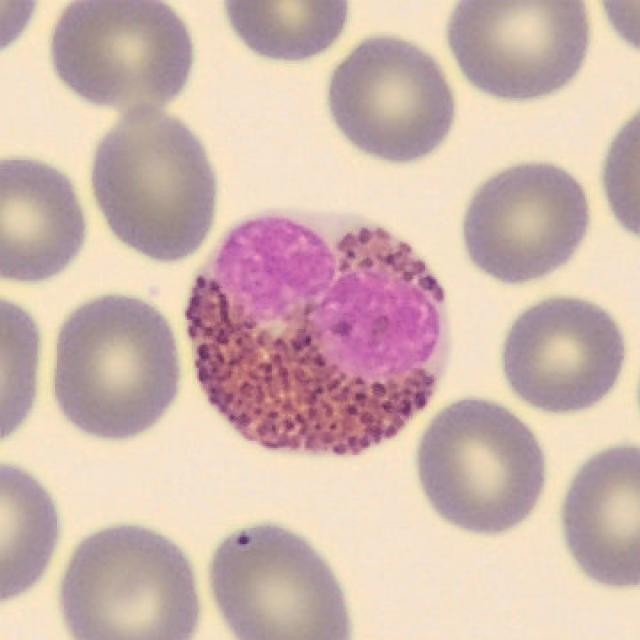Eosinofilo: (182, 203, 452, 460)
